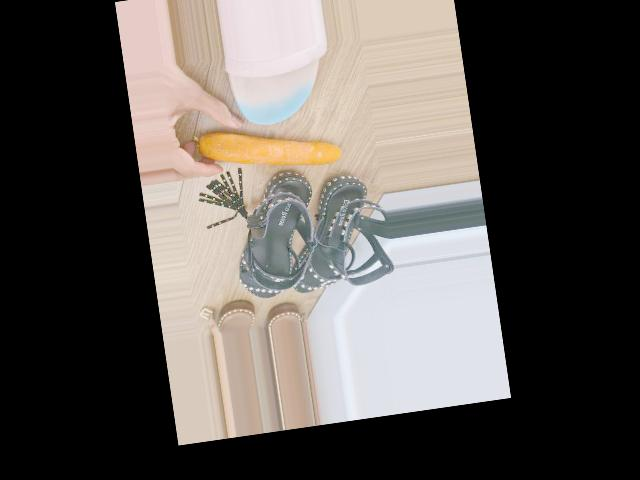carrot: (197, 114, 344, 182)
